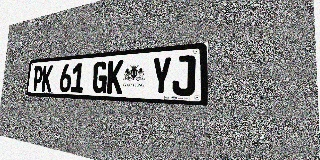1: (71, 63, 85, 93)
6: (59, 64, 72, 92)
G: (92, 61, 108, 93)
J: (172, 55, 195, 96)
K: (106, 60, 124, 94), (41, 65, 53, 92)
P: (32, 66, 43, 91)
Y: (151, 56, 172, 96)
